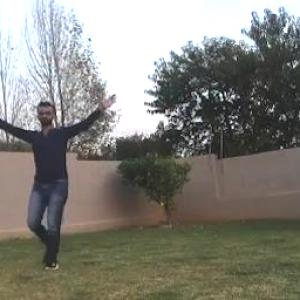takeoff: (2, 92, 118, 268)
